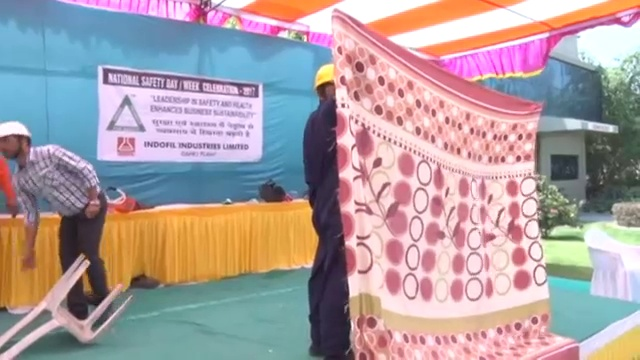helmet: (1, 115, 31, 142), (312, 63, 337, 88)
helmet_on: (1, 117, 32, 162), (310, 63, 338, 105)
person: (3, 117, 110, 326), (300, 64, 356, 360)
